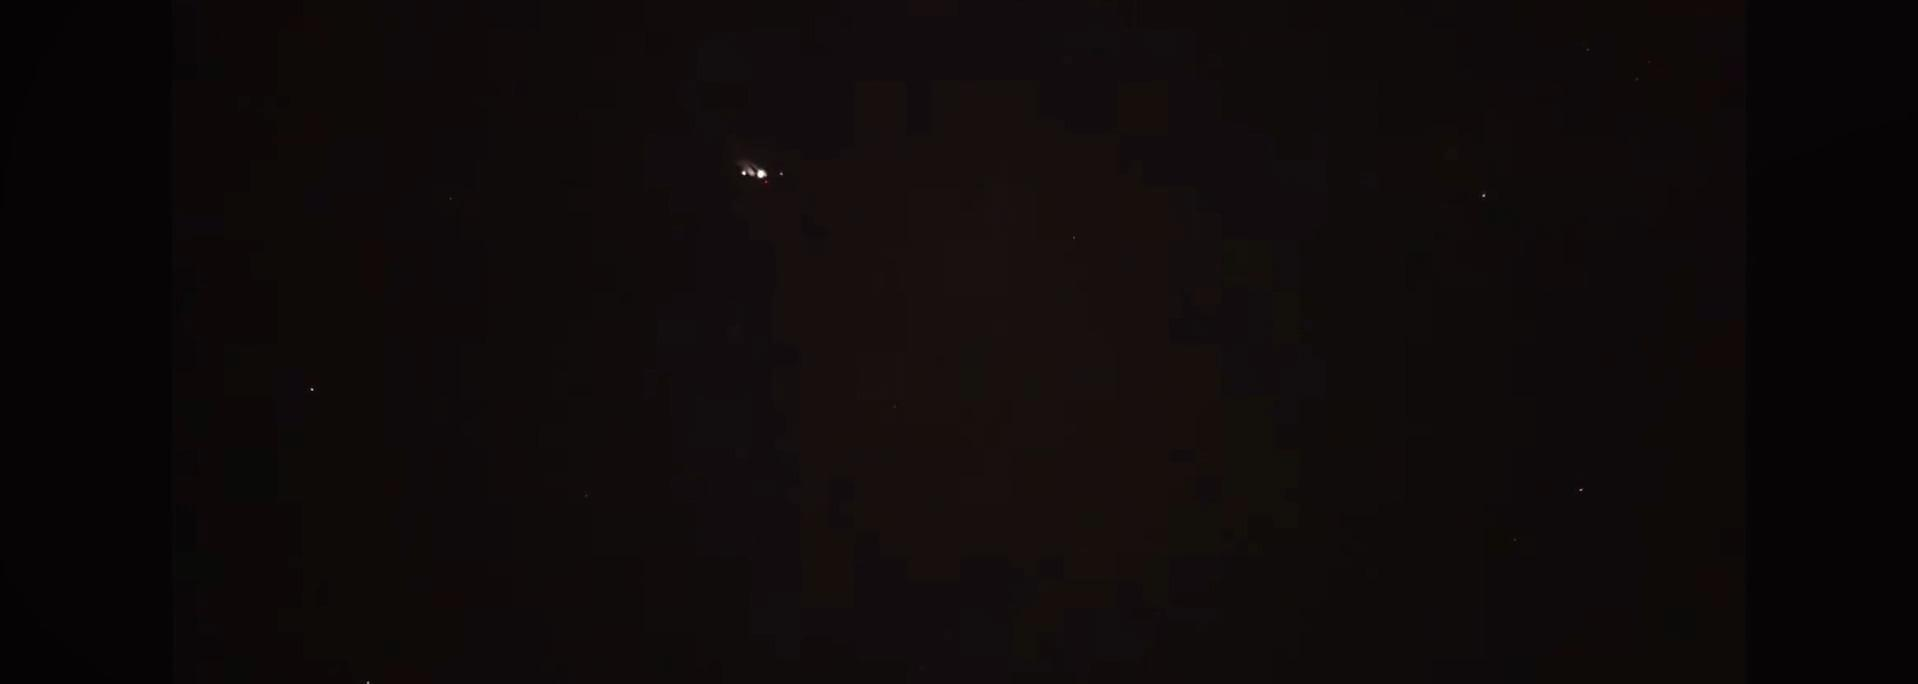Plane: (694, 143, 817, 197)
